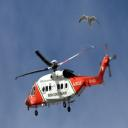helicopter: (13, 42, 119, 122)
